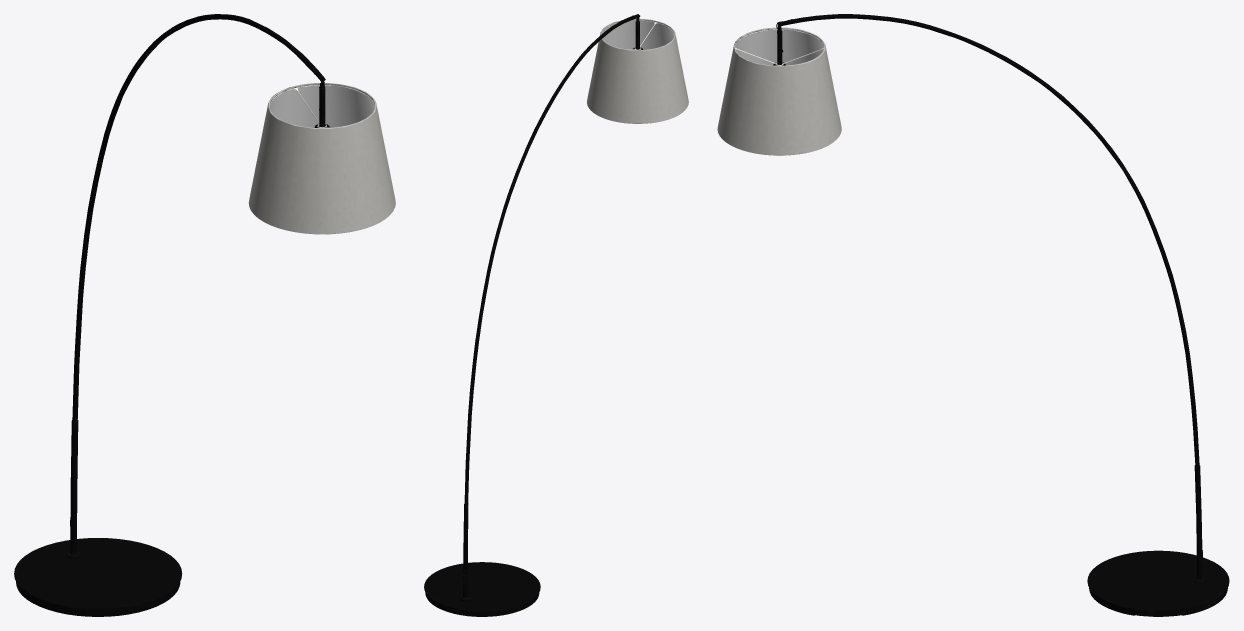
File: skottorp_skaftet_floor_lamp_arched_light.glb
3 renders of one model, left to right at view 1: azimuth 30°, elevation 25°; view 2: azimuth 150°, elevation 25°; view 3: azimuth 270°, elevation 25°, orthographic. The views are drawn at different scales.
Parts seen in each view (by area): view 1: Mesh_6; view 2: Mesh_6; view 3: Mesh_6.
Part boxes in pixels (x1,y1,x2,y2): Mesh_6: (14,14,395,616); Mesh_6: (424,14,688,616); Mesh_6: (717,14,1229,616).
Size of the model in its own units: 0.4799 by 2.14 by 1.73.
Materials: 2 (2 with a texture image).
